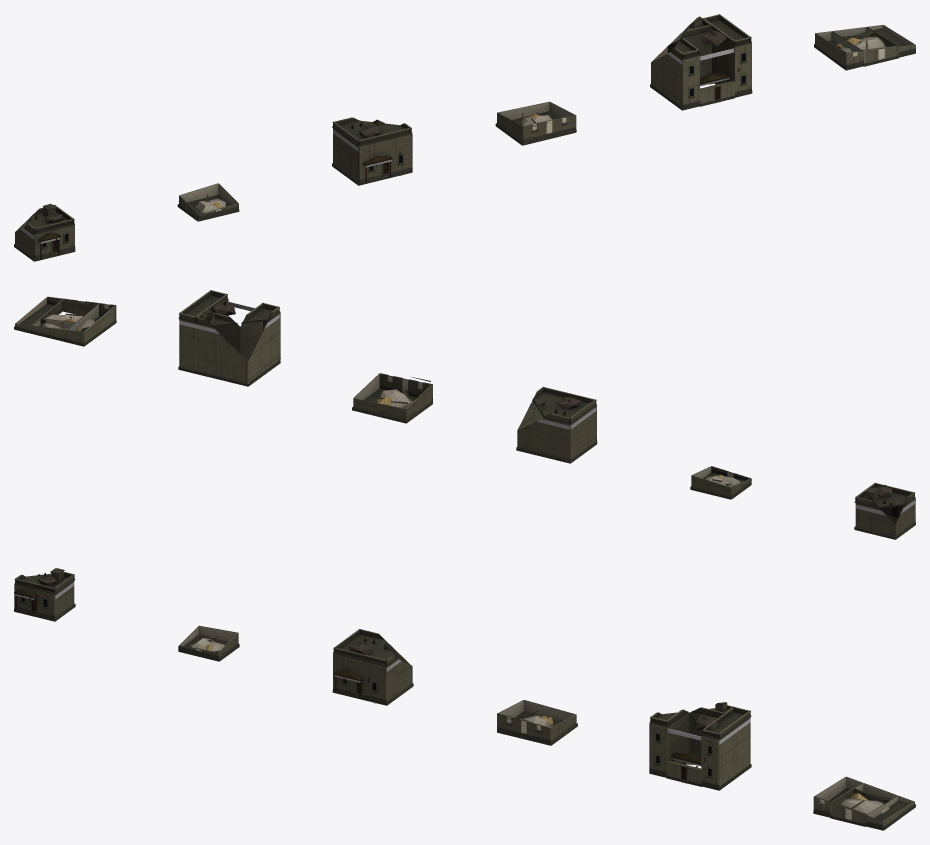
File: kingdoms-eastafrica-houses-damage.glb
3 renders of one model, top to bottom at view 1: azimuth 30°, elevation 25°; view 2: azimuth 150°, elevation 25°; view 3: azimuth 330°, elevation 25°, orthographic.
Visible parts, largest first — view 1: LOD0.004, LOD0.002, LOD0.005, LOD0, LOD0.003, LOD0.001; view 2: LOD0.004, LOD0.002, LOD0.005, LOD0.003, LOD0, LOD0.001; view 3: LOD0.004, LOD0.002, LOD0.005, LOD0, LOD0.003, LOD0.001.
Boxes of the visible parts, box(x1,y1,x2,y2) form: LOD0.004: box(650, 14, 752, 110); LOD0.002: box(332, 117, 412, 185); LOD0.005: box(814, 25, 915, 70); LOD0: box(14, 204, 75, 261); LOD0.003: box(495, 101, 576, 145); LOD0.001: box(177, 183, 239, 221); LOD0.004: box(178, 290, 280, 386); LOD0.002: box(516, 387, 597, 463); LOD0.005: box(14, 296, 116, 346); LOD0.003: box(352, 373, 432, 423); LOD0: box(854, 483, 915, 539); LOD0.001: box(690, 466, 751, 499); LOD0.004: box(649, 702, 751, 790); LOD0.002: box(332, 629, 413, 705); LOD0.005: box(813, 776, 915, 830); LOD0: box(14, 568, 75, 621); LOD0.003: box(497, 700, 577, 745); LOD0.001: box(178, 625, 239, 661).
Size of what is drawn, in the model's own units: 16.02 by 1.08 by 1.05.
2 materials, 2 textured.
